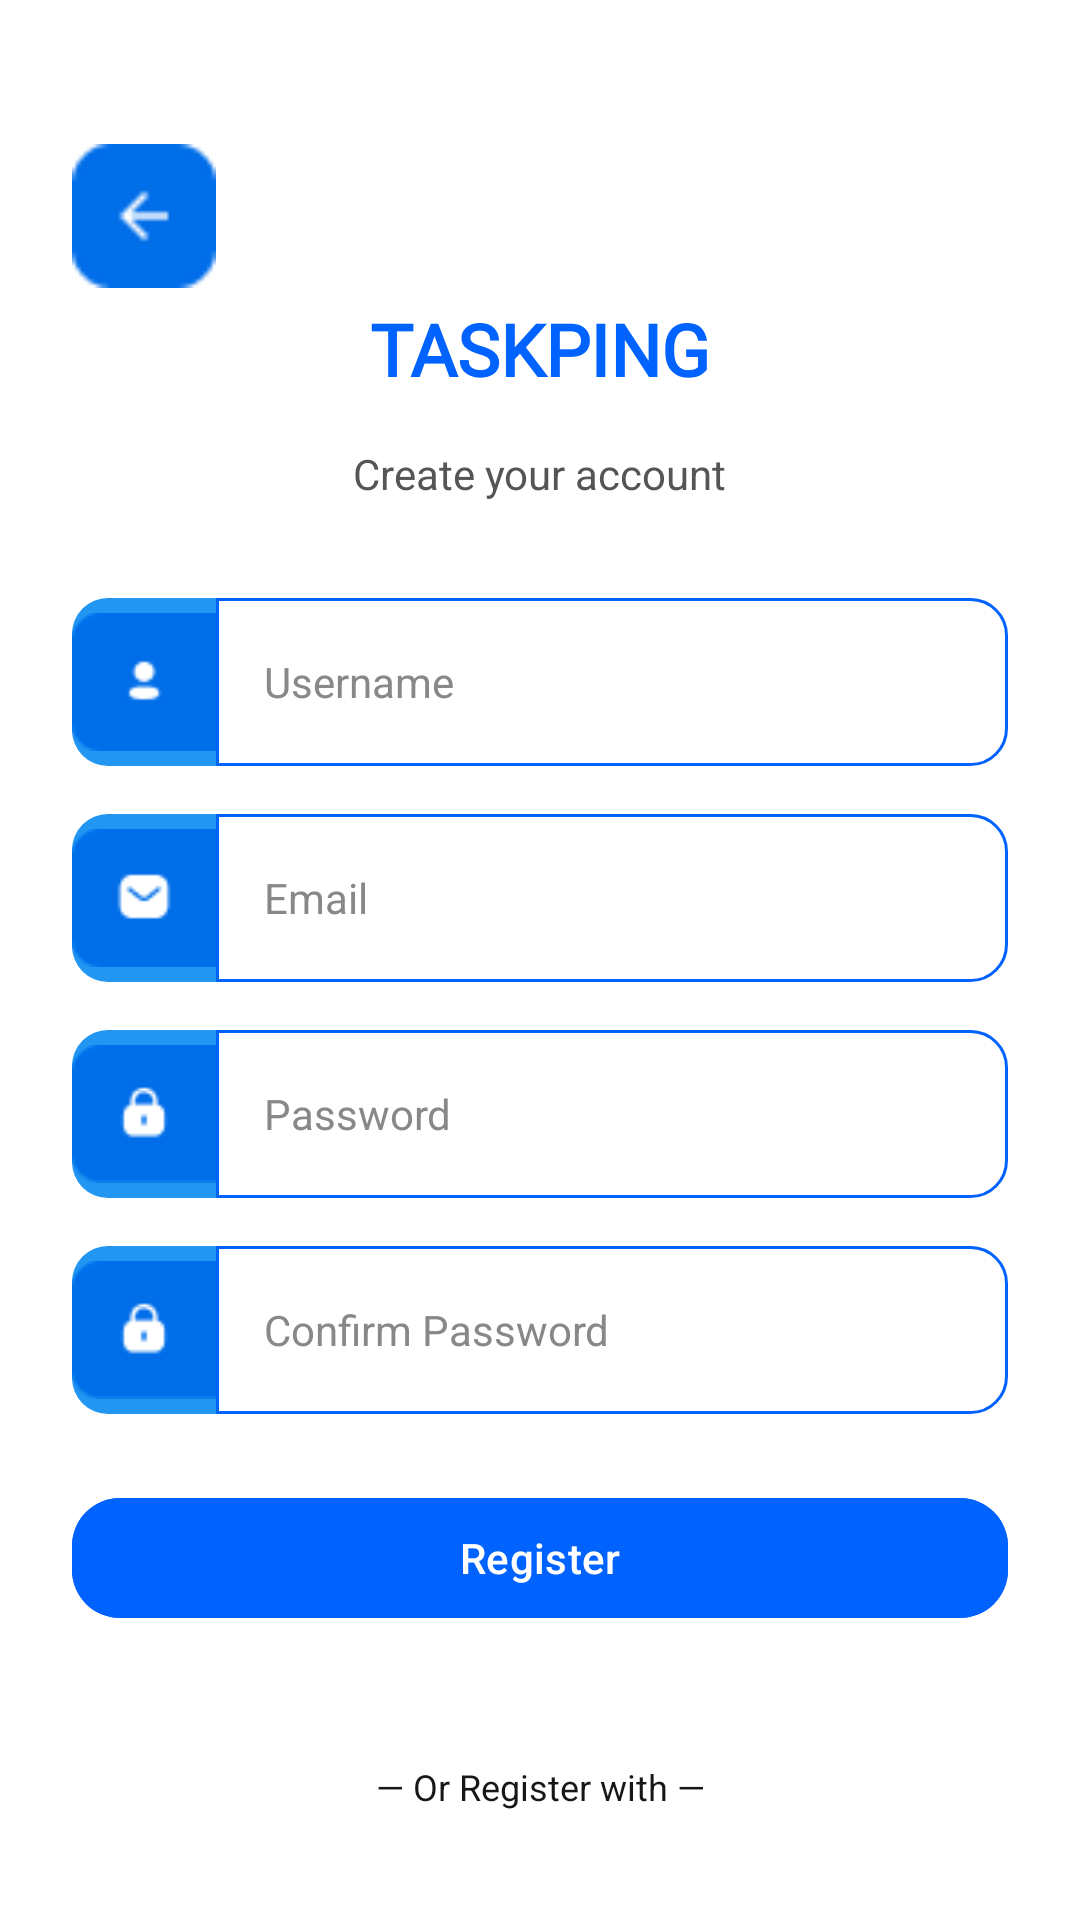

Icons on this 1080px×1920px Android screen, each with the point to tap as (x=x, y=y):
Back: (x=144, y=216)
lock: (x=144, y=1114), (x=144, y=1330)
profile: (x=144, y=682)
